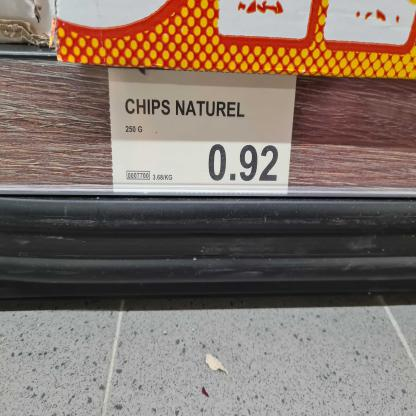prtg: (108, 67, 298, 196)
